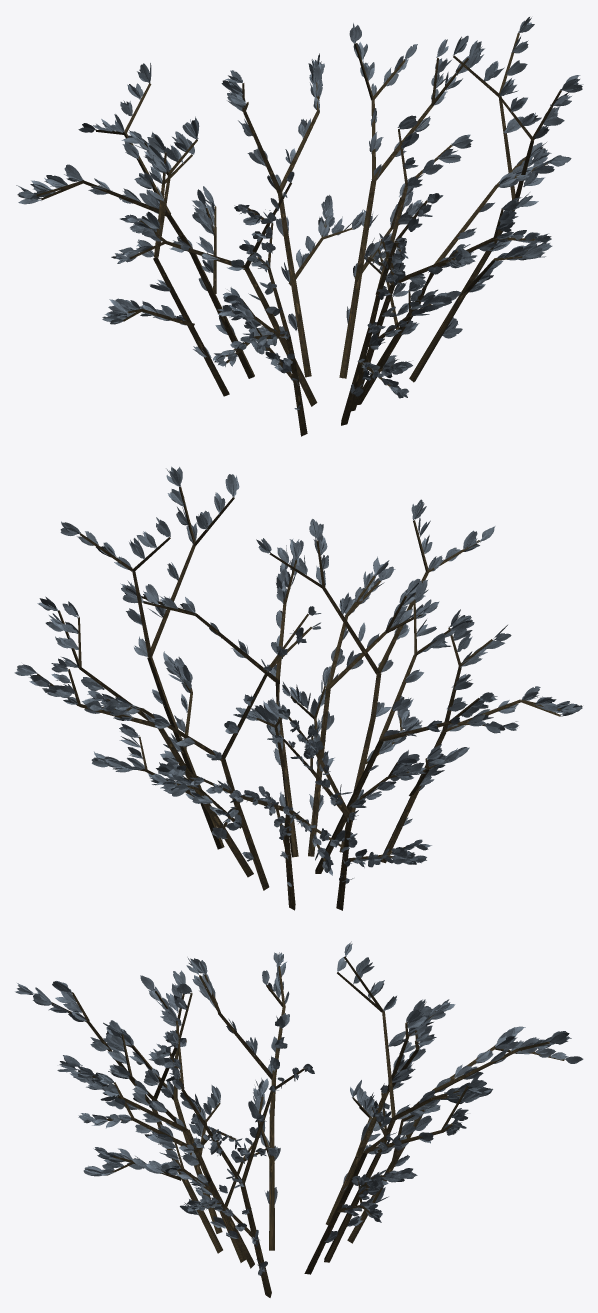
Rendered from sagebrush_grey_v02_LOD1.fbx.
3 renders of one model, top to bottom at view 1: azimuth 30°, elevation 25°; view 2: azimuth 150°, elevation 25°; view 3: azimuth 270°, elevation 25°, orthographic. The views are drawn at different scales.
Parts seen in each view (by area): view 1: sagebrush_grey_v02_LOD1; view 2: sagebrush_grey_v02_LOD1; view 3: sagebrush_grey_v02_LOD1.
Boxes of the visible parts, box(x1,y1,x2,y2) form: sagebrush_grey_v02_LOD1: box(16, 17, 583, 436); sagebrush_grey_v02_LOD1: box(14, 466, 582, 910); sagebrush_grey_v02_LOD1: box(15, 941, 583, 1297).
Bounding box in the file's own units: 108 × 77.07 × 128.
2 materials, 2 textured.
